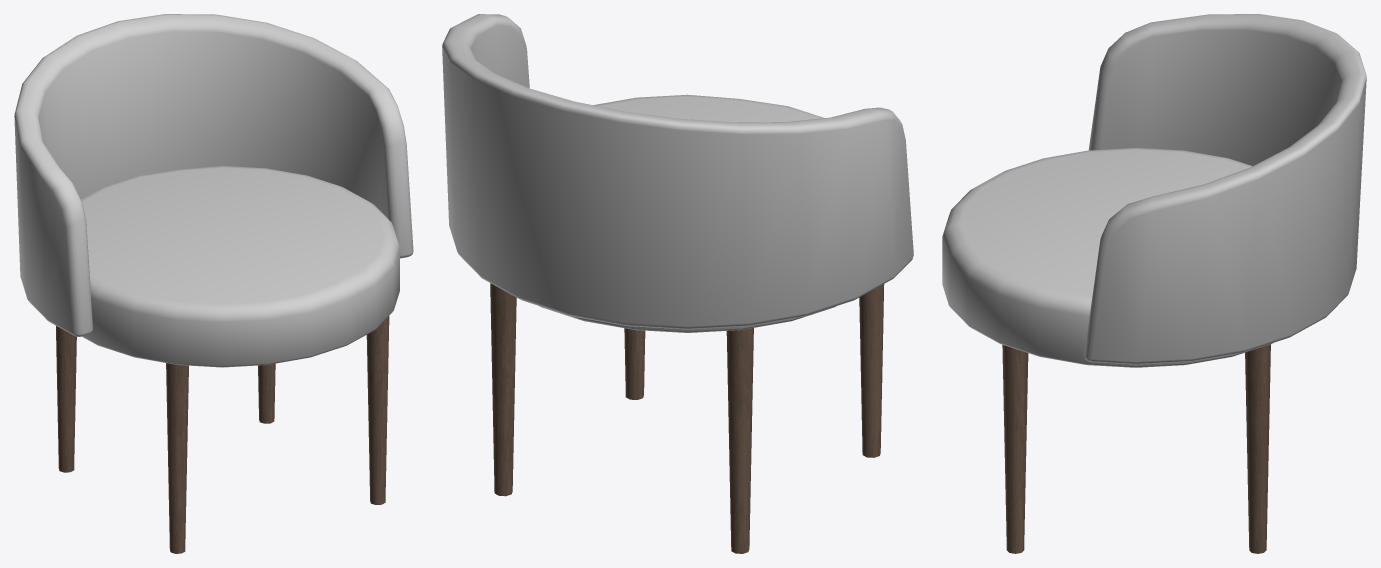
The model's file is D_Bench_201.fbx.
3 renders of one model, left to right at view 1: azimuth 30°, elevation 25°; view 2: azimuth 150°, elevation 25°; view 3: azimuth 270°, elevation 25°, orthographic. The views are drawn at different scales.
Visible parts, largest first — view 1: D_Bench_201; view 2: D_Bench_201; view 3: D_Bench_201.
Part boxes in pixels (x1,y1,x2,y2): D_Bench_201: (14,14,413,553); D_Bench_201: (442,14,913,553); D_Bench_201: (942,14,1366,553).
Size of the model in its own units: 0.7328 by 0.7771 by 0.7055.
